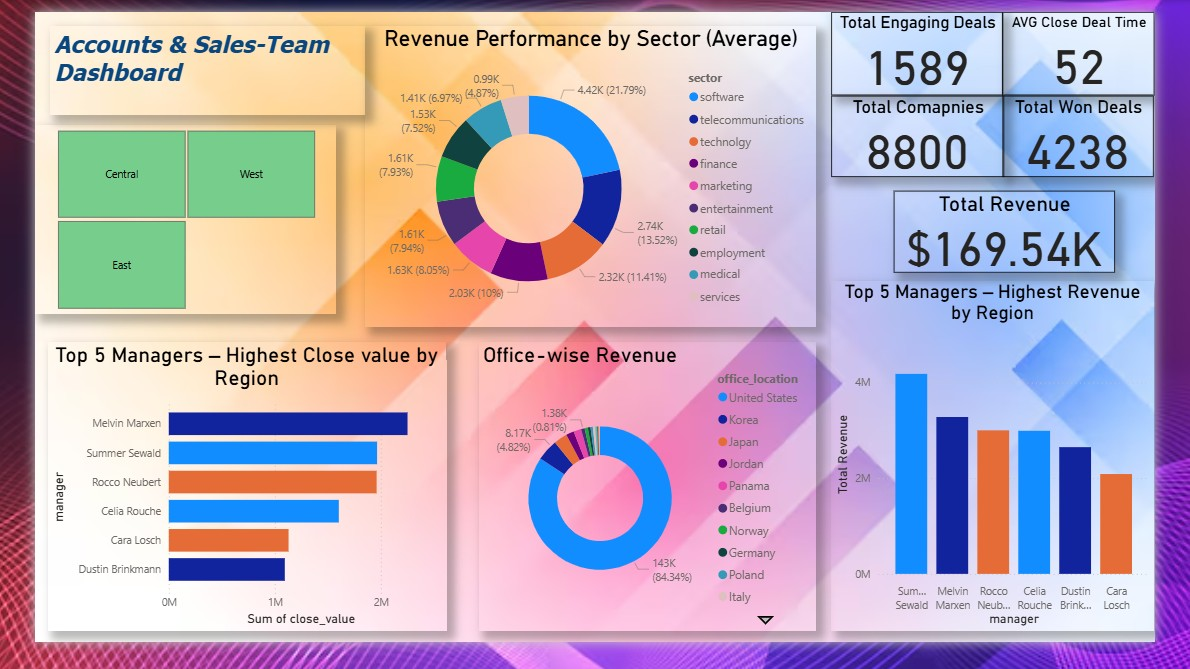

The dashboard page shown, as its layout file describes it:
{"tool":"powerbi","page":{"name":"Accounts & Sales_Team Dashboard ","canvas":[1280,720],"ordinal":1},"visuals":[{"type":"card","title":"Total Comapnies","fields":{"Values":["sales_pipeline.account"]},"box":[910,95,197.5,92.5],"z":0},{"type":"card","title":"Total Won Deals","fields":{"Values":["sales_pipeline.deal_stage"]},"box":[1106.2,95,172.5,92.5],"z":1000},{"type":"card","title":"Total Engaging Deals","fields":{"Values":["sales_pipeline.deal_stage"]},"box":[910,0,196.2,95],"z":2000},{"type":"card","title":"AVG Close Deal Time","fields":{"Values":["accounts.Avg Days to Close"]},"box":[1106.2,0,173.8,95],"z":3000},{"type":"donutChart","title":"Office-wise Revenue","fields":{"Category":["accounts.office_location"],"Y":["accounts.revenue"]},"box":[507.1,377.1,385.7,330],"z":4000},{"type":"lineStackedColumnComboChart","title":"Top 5 Managers – Highest Revenue by Region","fields":{"Category":["sales_teams.manager"],"Series":["sales_teams.regional_office"],"Y":["accounts.Total Revenue"]},"box":[910,307.5,368.8,400],"z":5000},{"type":"card","title":"Total Revenue","fields":{"Values":["accounts.revenue"]},"box":[981.2,203.8,252.5,93.8],"z":6000},{"type":"donutChart","title":"Revenue Performance by Sector (Average)","fields":{"Category":["accounts.sector"],"Y":["accounts.revenue"]},"box":[377.1,15.7,515.7,344.3],"z":7000},{"type":"barChart","title":"Top 5 Managers – Highest Close value by Region","fields":{"Category":["sales_teams.manager"],"Y":["sales_pipeline.close_value"],"Series":["sales_teams.regional_office"]},"box":[14.3,377.1,455.7,330],"z":8000},{"type":"slicer","fields":{"Values":["sales_teams.regional_office"]},"box":[0,128.6,344.3,217.1],"z":9000},{"type":"textbox","box":[17.5,16.2,360,101.2],"z":10000}]}

Visuals, with their boxes in screenshot pixels (x1, y1, x2, y2), scaled from the page's 1280x720 canvas onto the 1190x669 screenshot:
"Total Comapnies" card: [846,88,1030,174]
"Total Won Deals" card: [1028,88,1189,174]
"Total Engaging Deals" card: [846,0,1028,88]
"AVG Close Deal Time" card: [1028,0,1189,88]
"Office-wise Revenue" donutChart: [471,350,830,657]
"Top 5 Managers – Highest Revenue by Region" lineStackedColumnComboChart: [846,286,1189,657]
"Total Revenue" card: [912,189,1147,277]
"Revenue Performance by Sector (Average)" donutChart: [351,15,830,334]
"Top 5 Managers – Highest Close value by Region" barChart: [13,350,437,657]
slicer - sales_teams.regional_office: [0,119,320,321]
textbox: [16,15,351,109]
